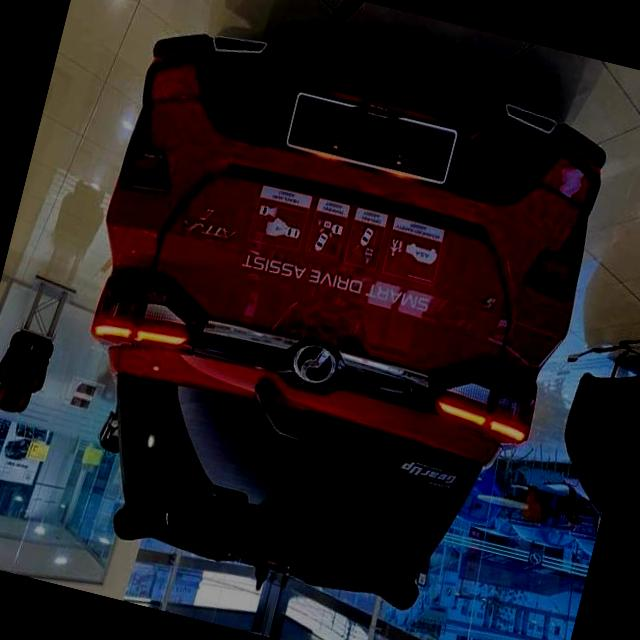PeroduaAtiva: (27, 11, 620, 640)
